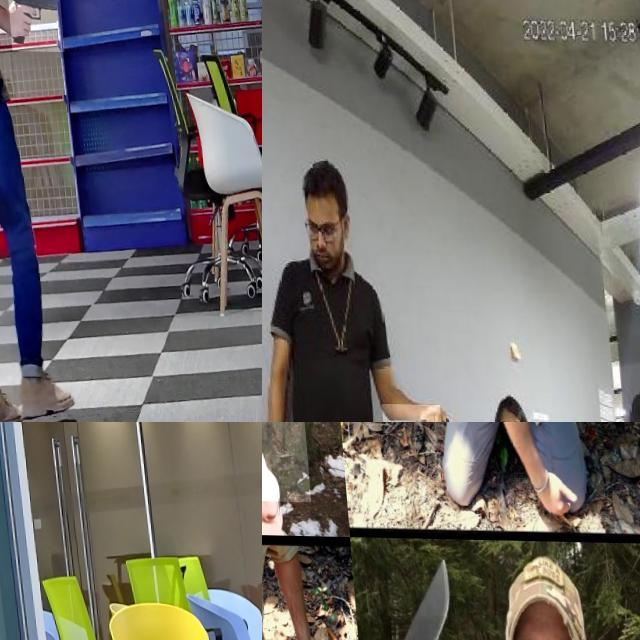-: (344, 557, 463, 640), (262, 422, 338, 517), (588, 422, 640, 446), (374, 402, 435, 422)
gun-knife-thesis - v11 Yolov5 augmented: (3, 0, 60, 50)
